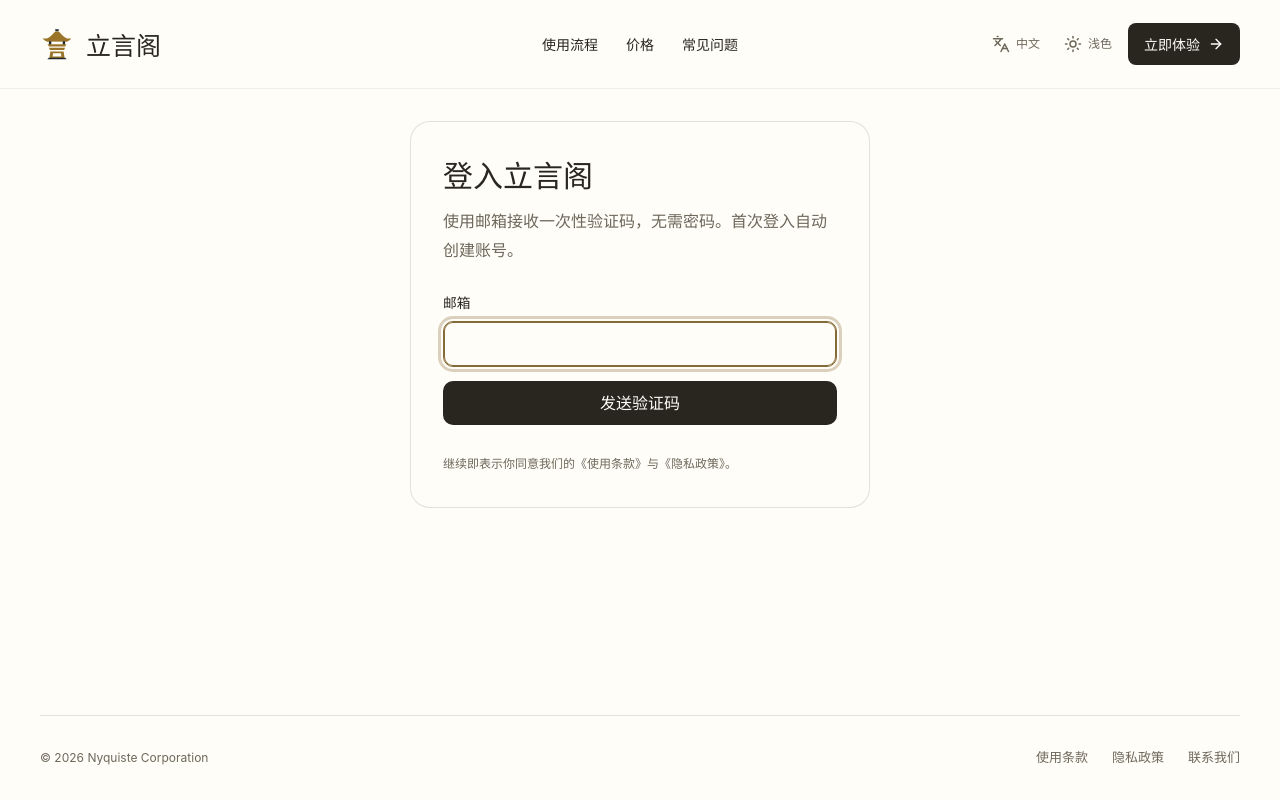
it: Email OTP sign in › returns to the address form with the address still in it
This screenshot has width=1280, height=800.
Type "wrong@example.com" into the field labelled "邮箱" at (640, 344), box [443,321,837,367]
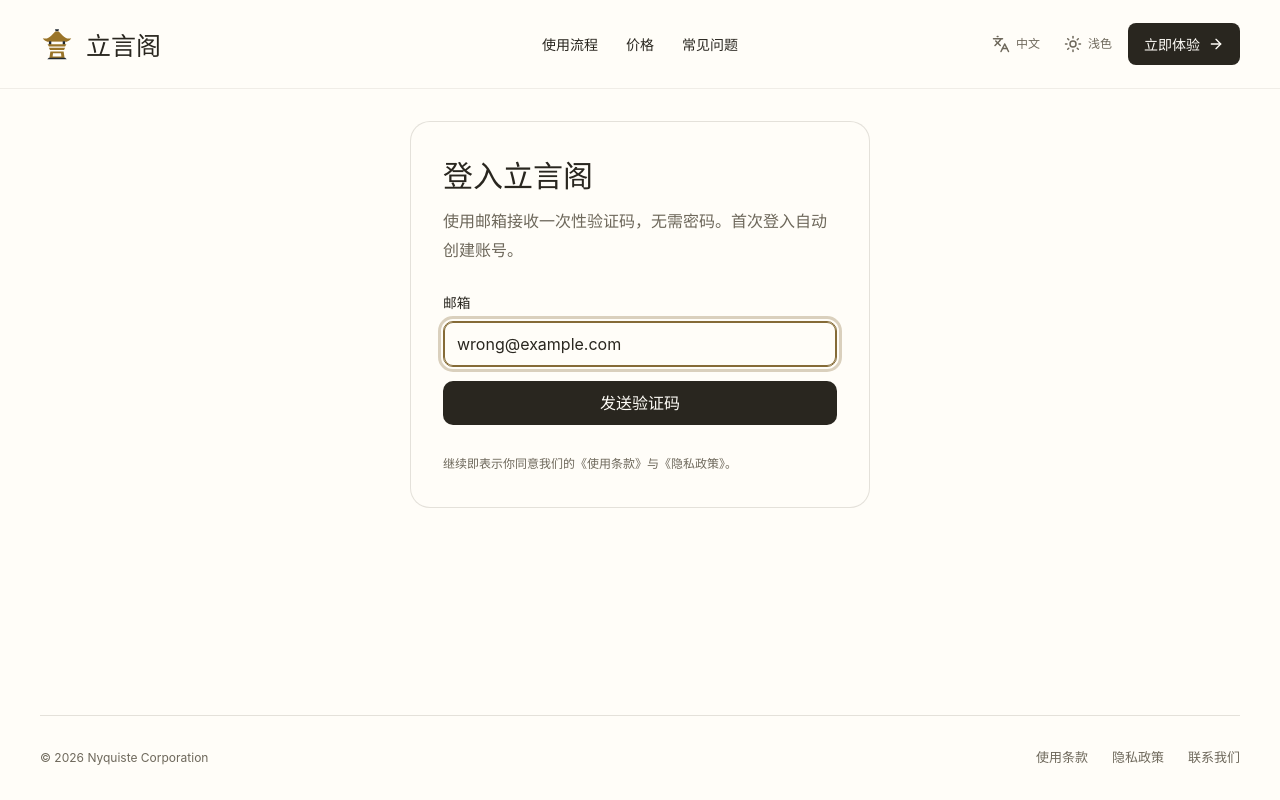
Click the button "发送验证码" at (640, 403), box [443,381,837,425]
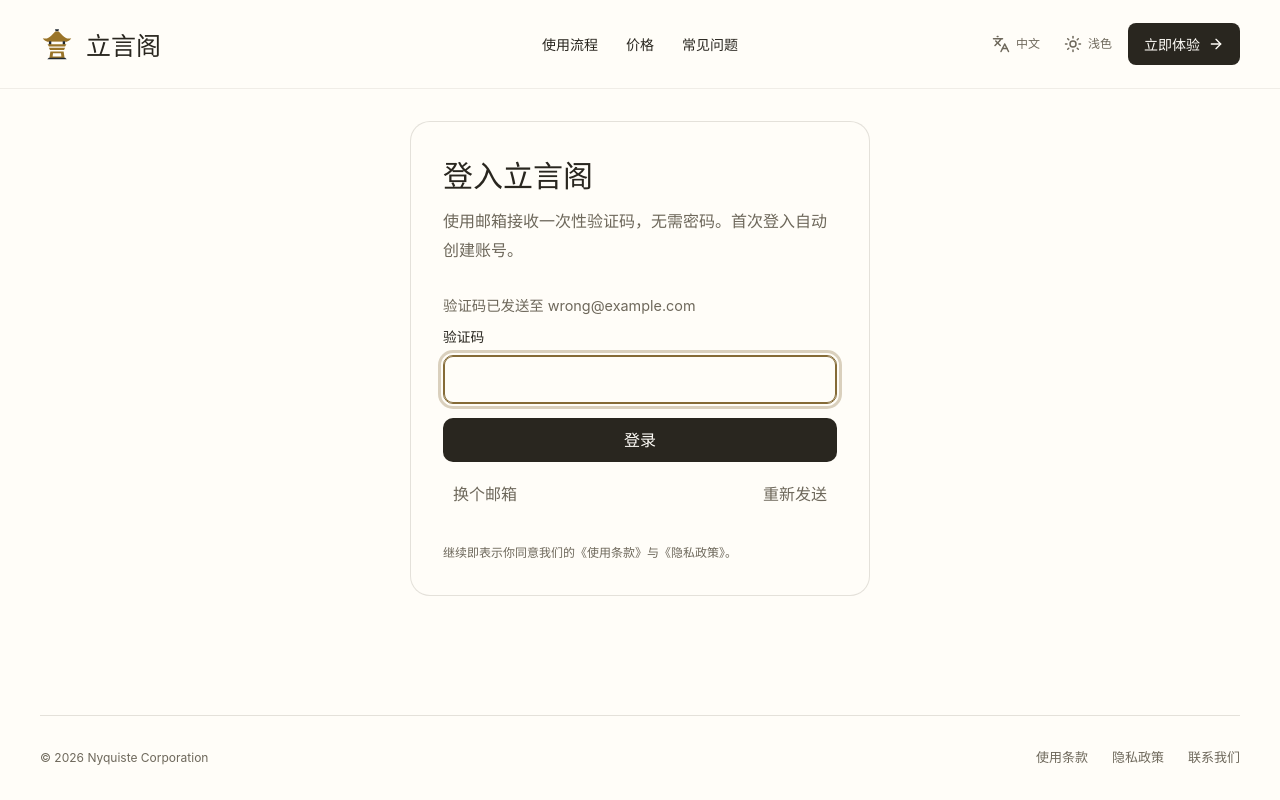
Click the button "换个邮箱" at (485, 494), box [443,474,527,514]
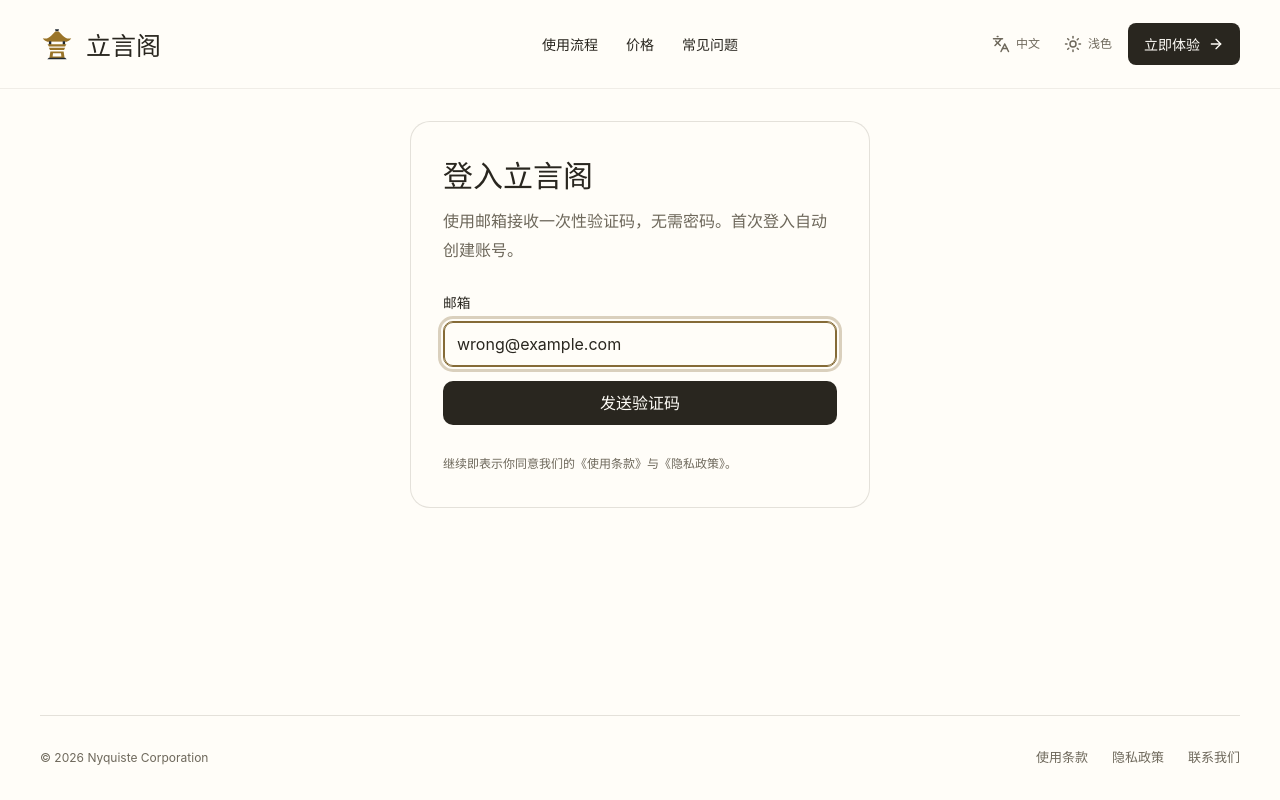
Expected: the field labelled "邮箱" holds "wrong@example.com", [443,321,837,367]
